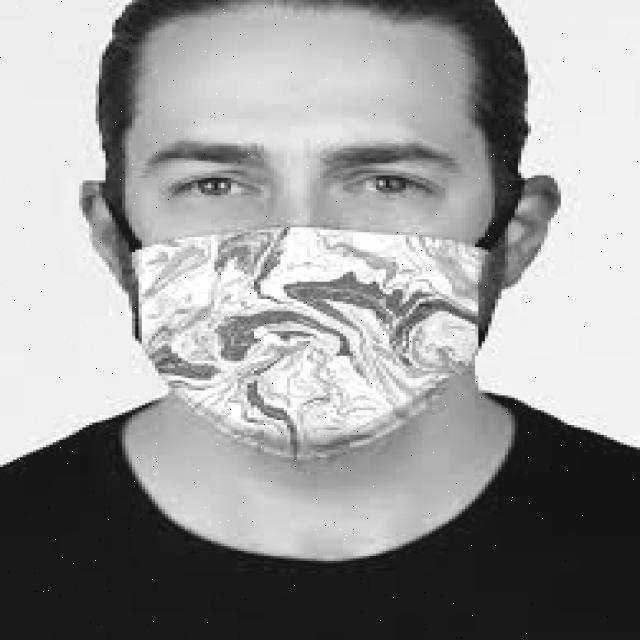fake: (124, 225, 507, 465)
real: (125, 12, 493, 476)
